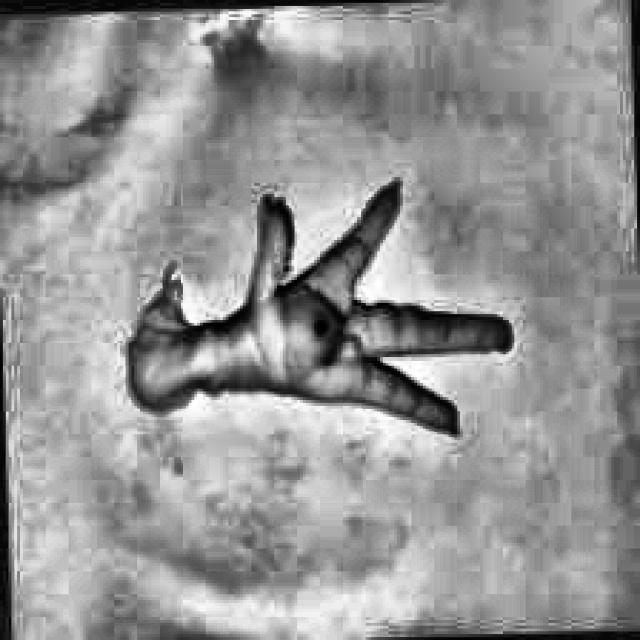Bumble foot: (123, 174, 511, 437)
